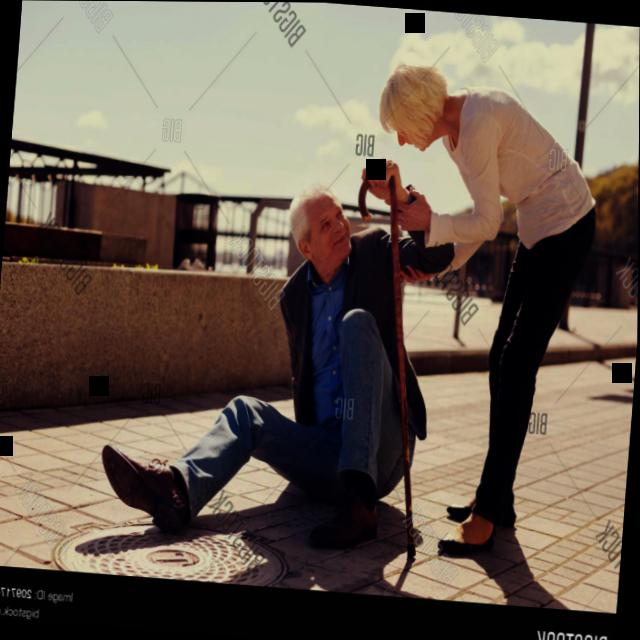Fall-Detected: (81, 139, 465, 571)
